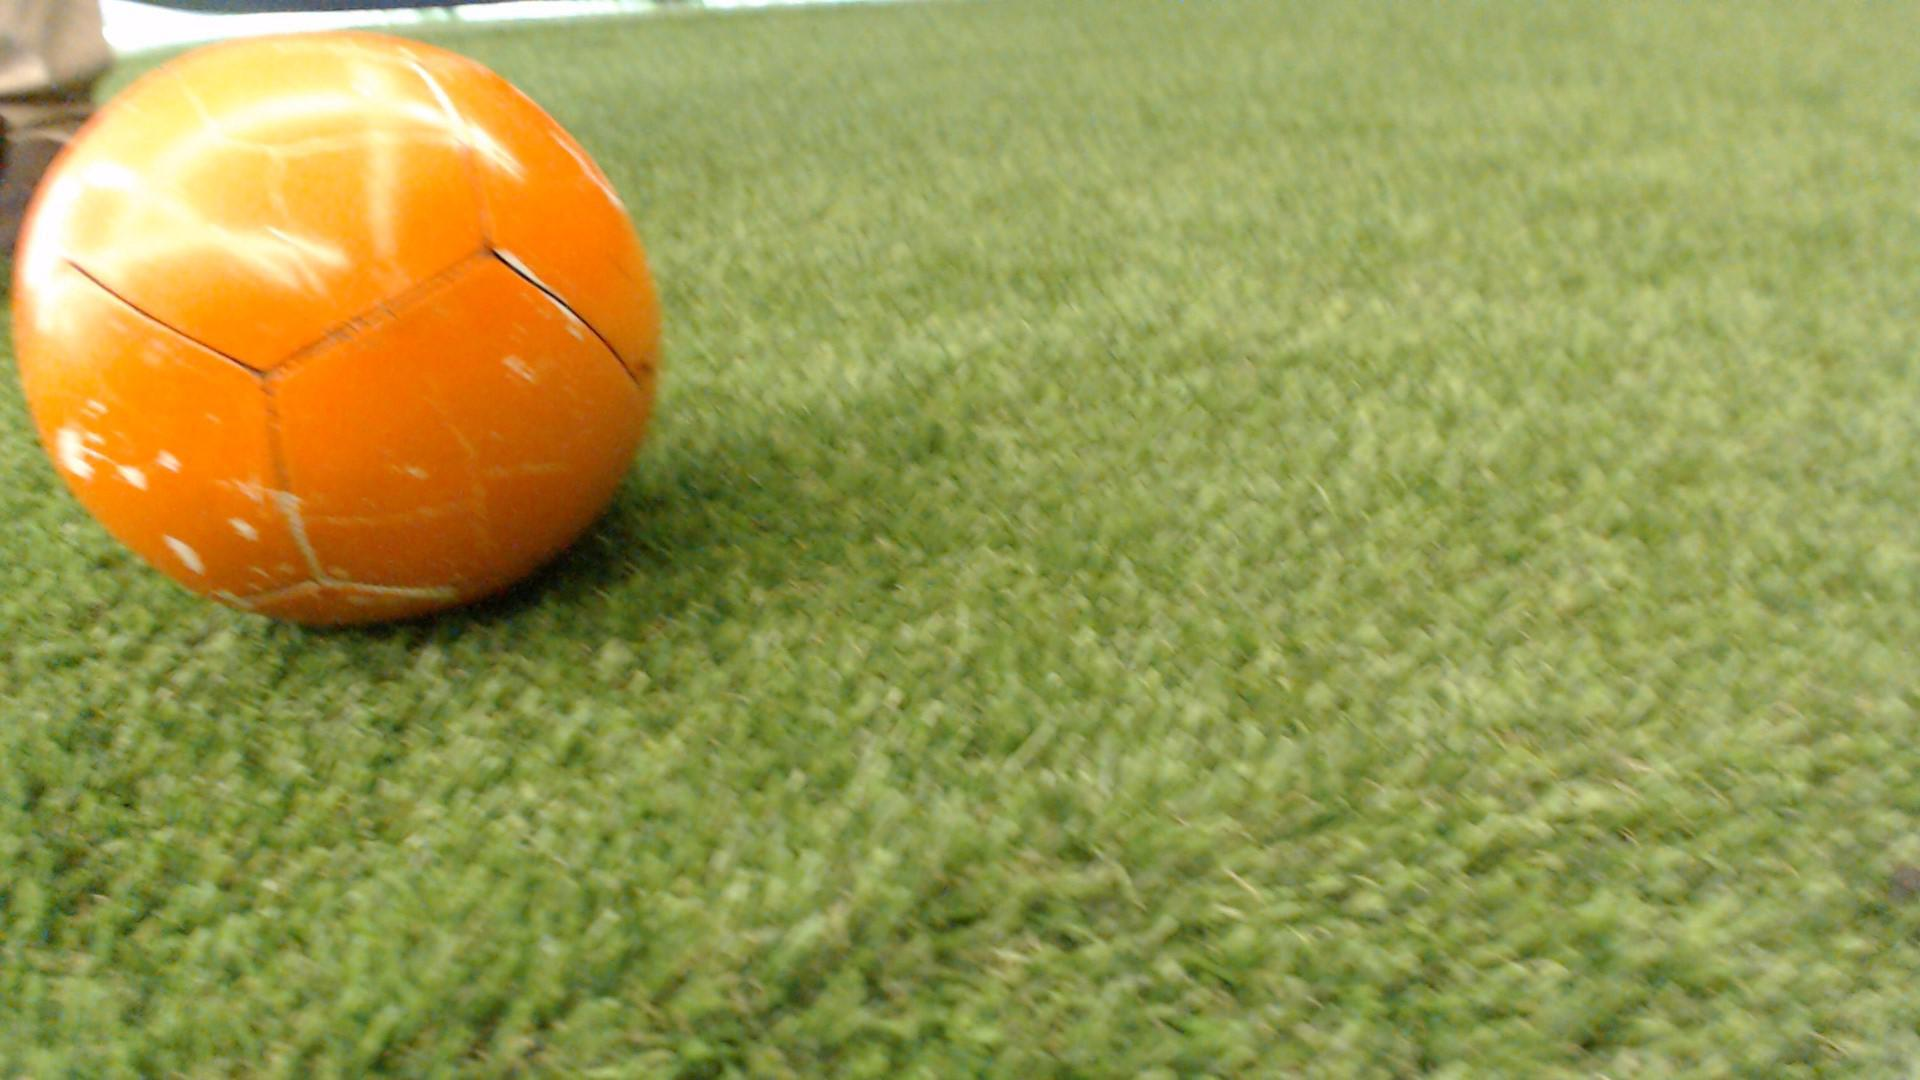bola: (14, 46, 694, 652)
